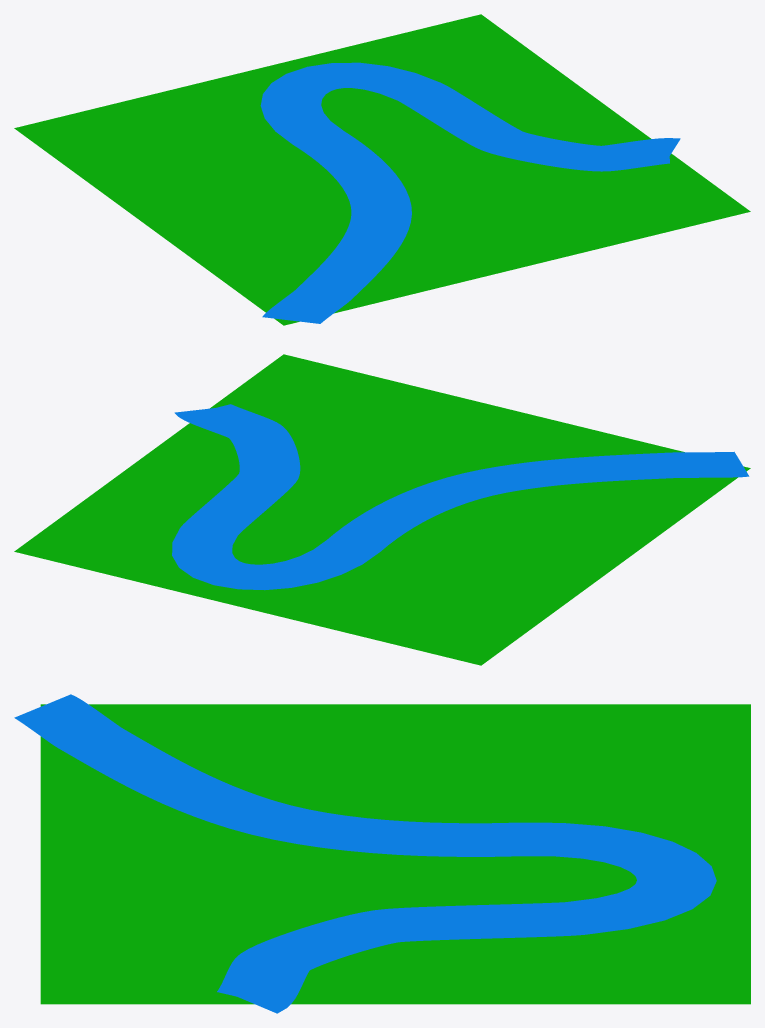
3 views of the same model, one above another, from view 1: azimuth 30°, elevation 25°; view 2: azimuth 150°, elevation 25°; view 3: azimuth 270°, elevation 25° (orthographic). The views are drawn at different scales.
Visible parts, largest first — view 1: Plane, BezierCurve; view 2: Plane, BezierCurve; view 3: Plane, BezierCurve.
Boxes of the visible parts, left/top/right/bottom form: Plane: left=14, top=14, right=750, bottom=325; BezierCurve: left=260, top=62, right=680, bottom=323; Plane: left=14, top=354, right=750, bottom=665; BezierCurve: left=172, top=404, right=749, bottom=590; Plane: left=40, top=704, right=750, bottom=1004; BezierCurve: left=14, top=694, right=716, bottom=1013.
Bounding box in the file's own units: 1346 × 6.71 × 1313.
